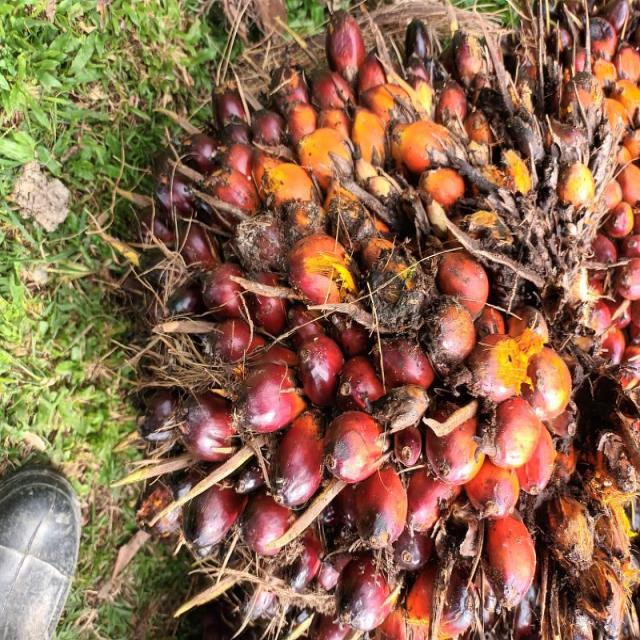fraksi 1: (19, 0, 480, 640)
